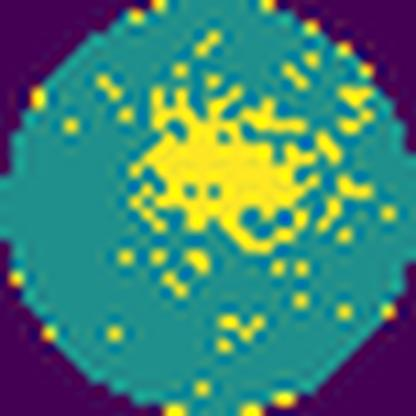Loc: (125, 84, 341, 255)
